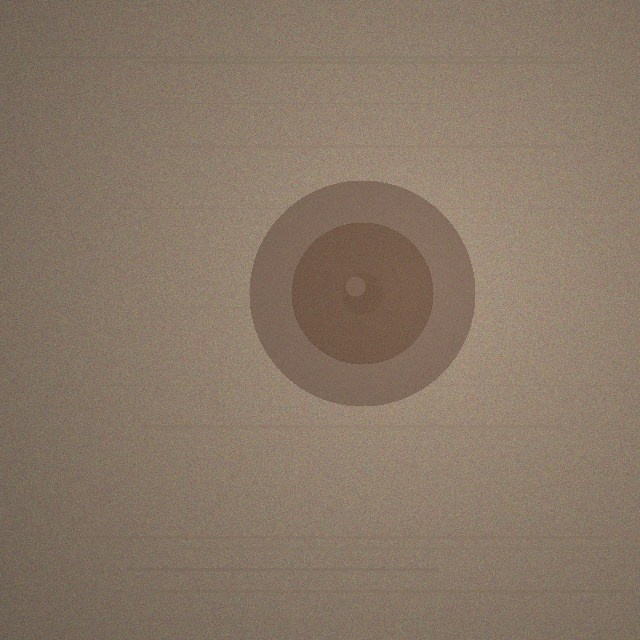good: (249, 180, 475, 406)
